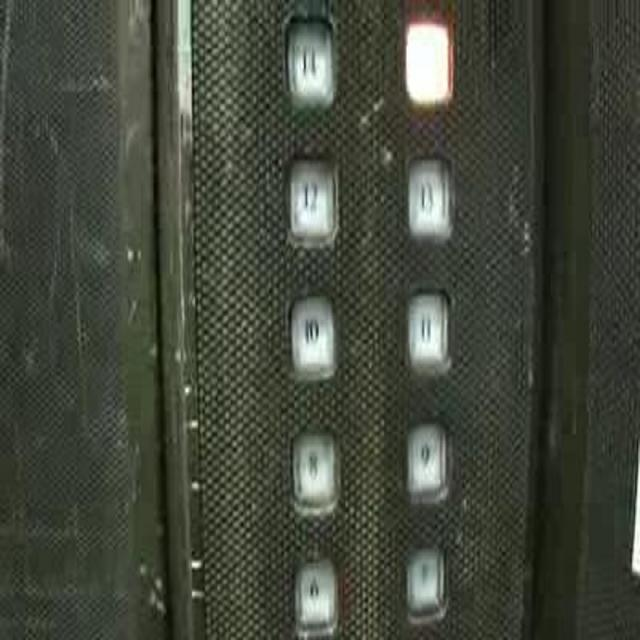10: (284, 285, 338, 380)
11: (401, 281, 456, 380)
12: (284, 149, 341, 251)
13: (403, 151, 456, 245)
8: (288, 421, 342, 516)
9: (401, 414, 453, 506)
blur: (283, 8, 337, 112), (400, 533, 450, 624), (292, 548, 339, 635)
empty: (400, 16, 455, 109)
